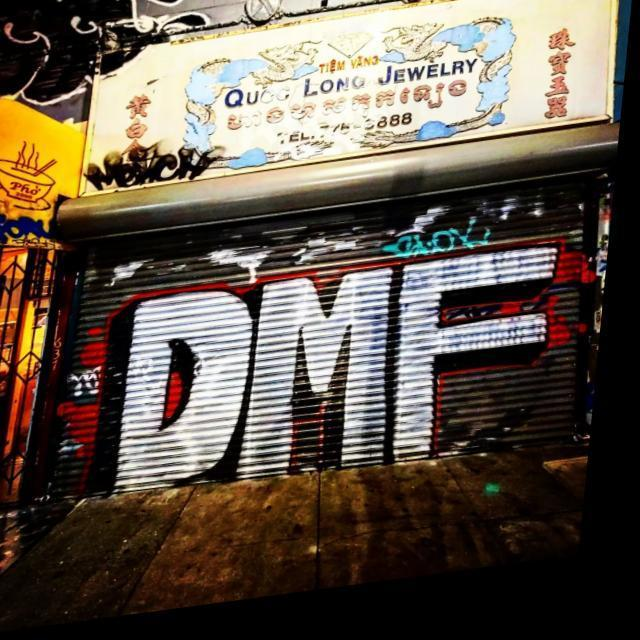-: (74, 242, 600, 520)
